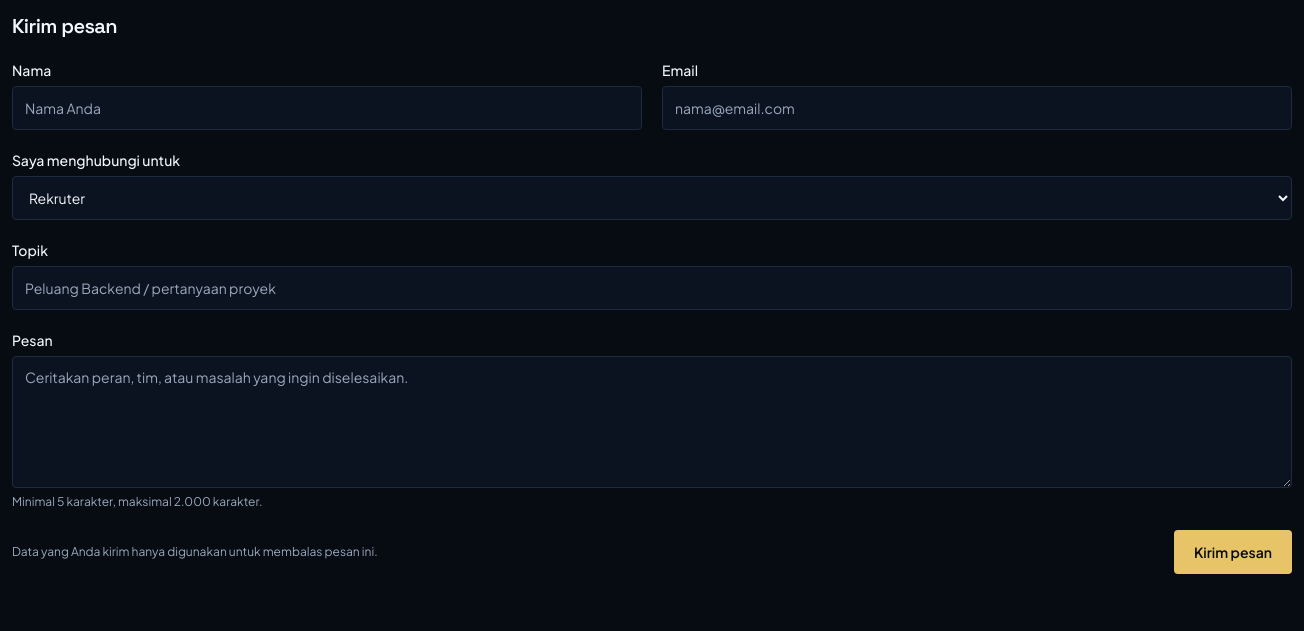
Scenario: ContactForm › menampilkan pesan server tanpa membocorkan detail
The width and height of the screenshot is (1304, 631).
In the field labelled "Nama": (327, 108) 12,86 -> 642,130, type "Budi Santoso"
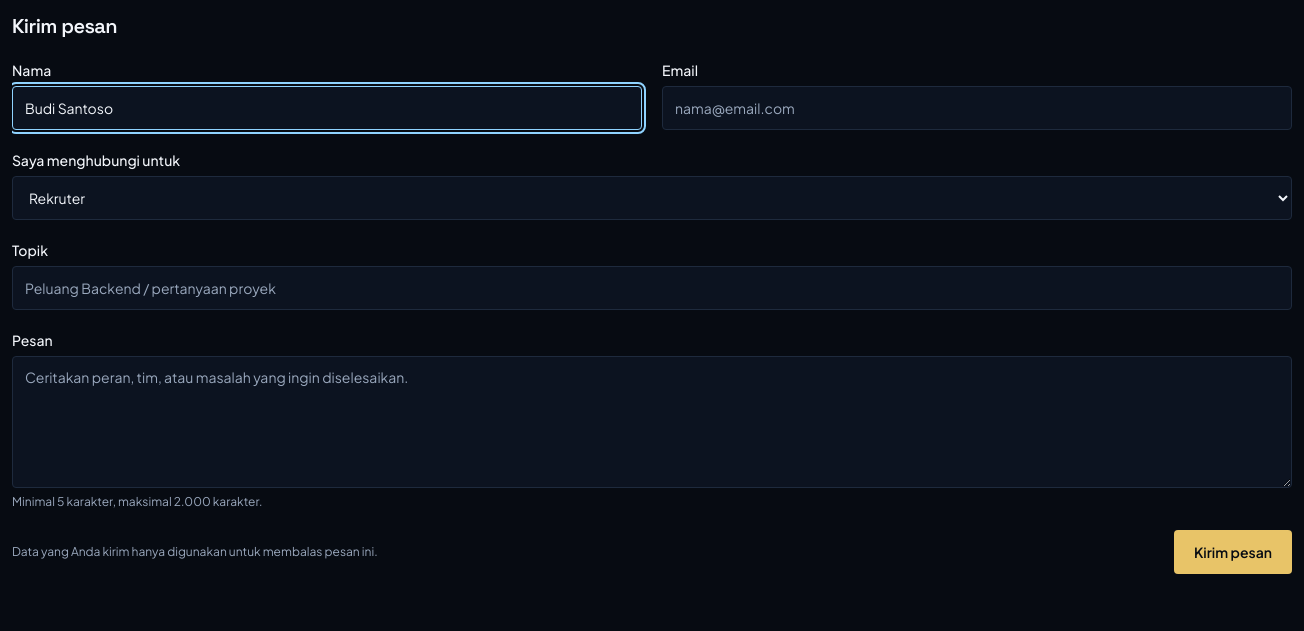
In the field labelled "Email": (977, 108) 662,86 -> 1292,130, type "budi@example.com"
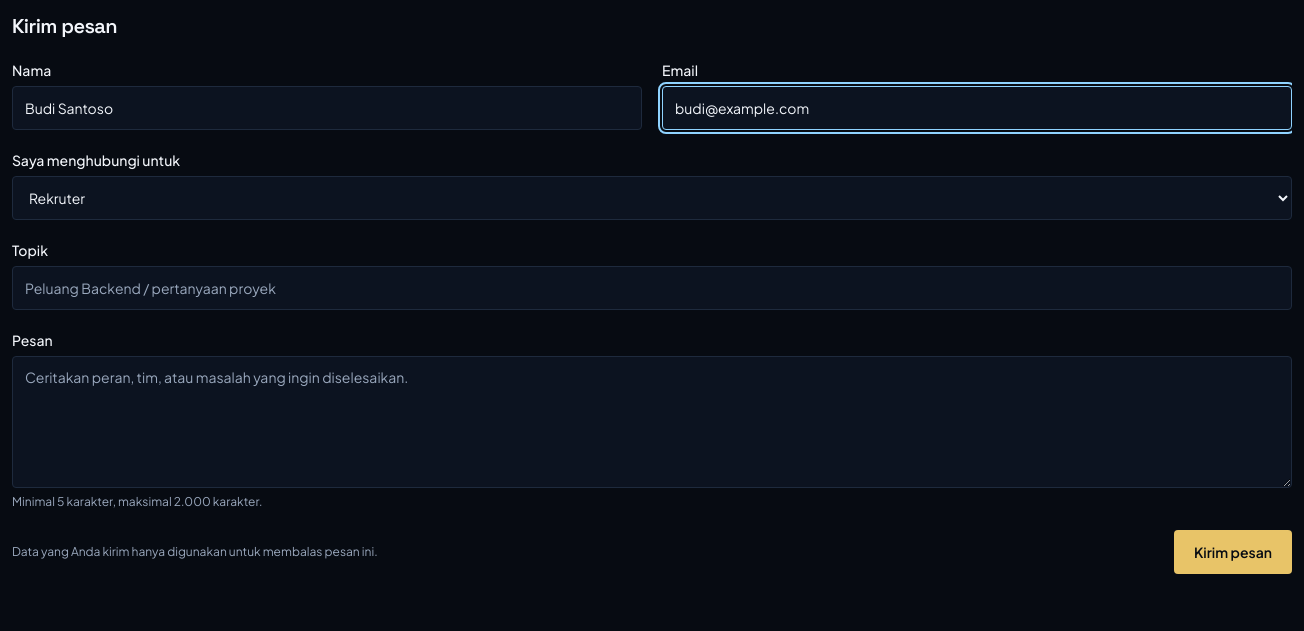
In the field labelled "Topik": (652, 288) 12,266 -> 1292,310, type "Kolaborasi proyek"
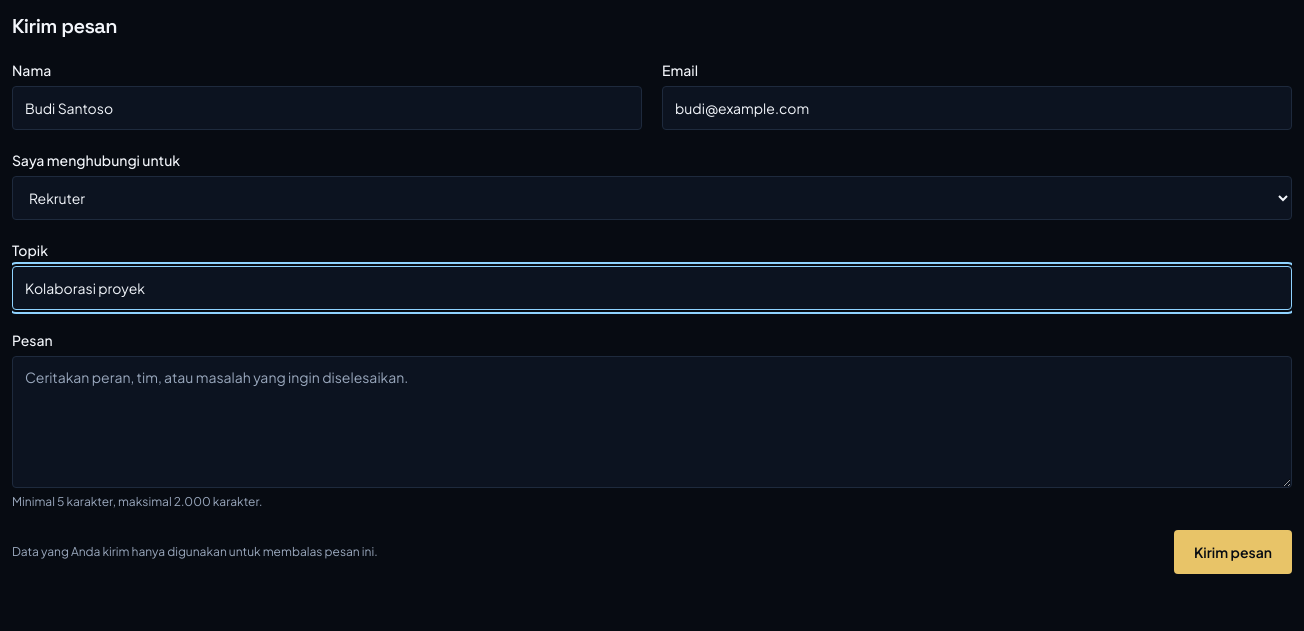
In the text box labelled "Pesan": (652, 422) 12,356 -> 1292,488, type "Halo, saya ingin berdiskusi."
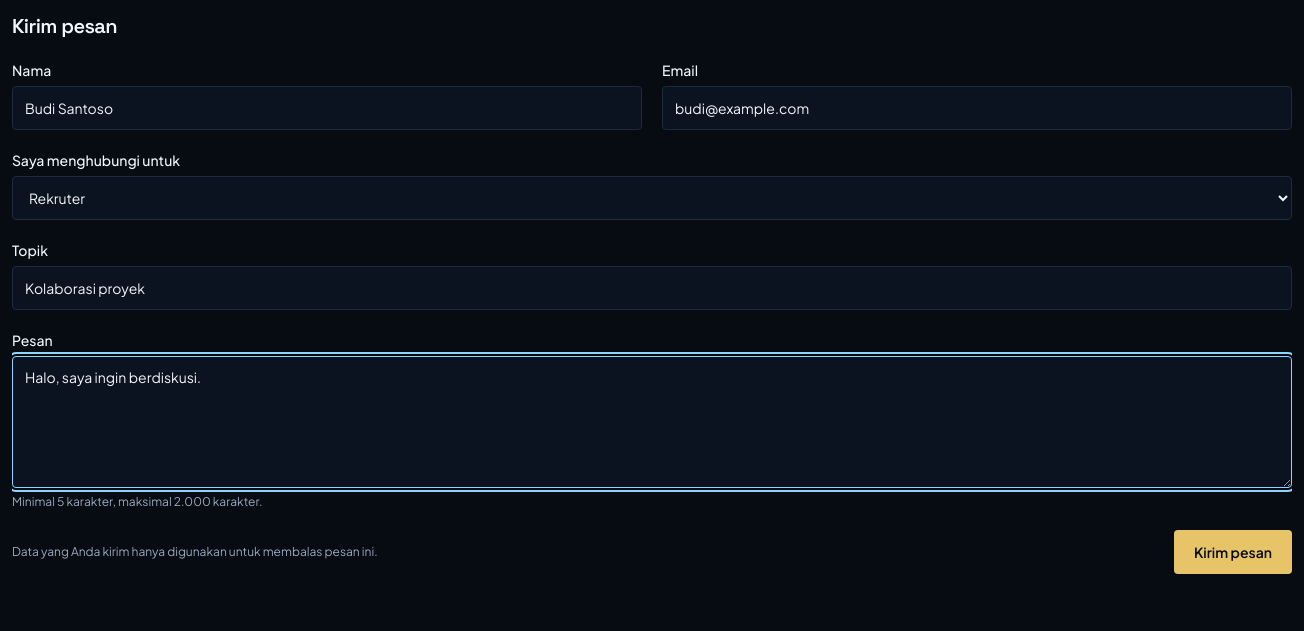
Click the button "Kirim pesan": (1233, 552) 1174,530 -> 1292,574
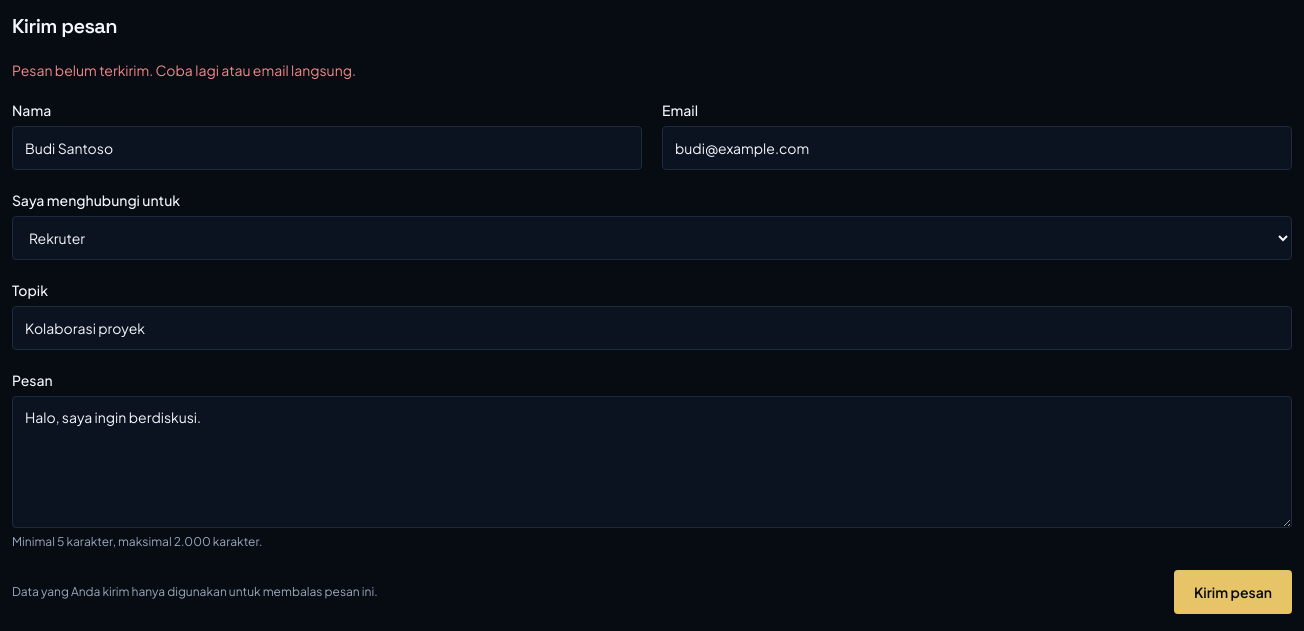
Check: the message reads "Pesan belum terkirim. Coba lagi atau email langsung.", box 12,61 -> 356,79
